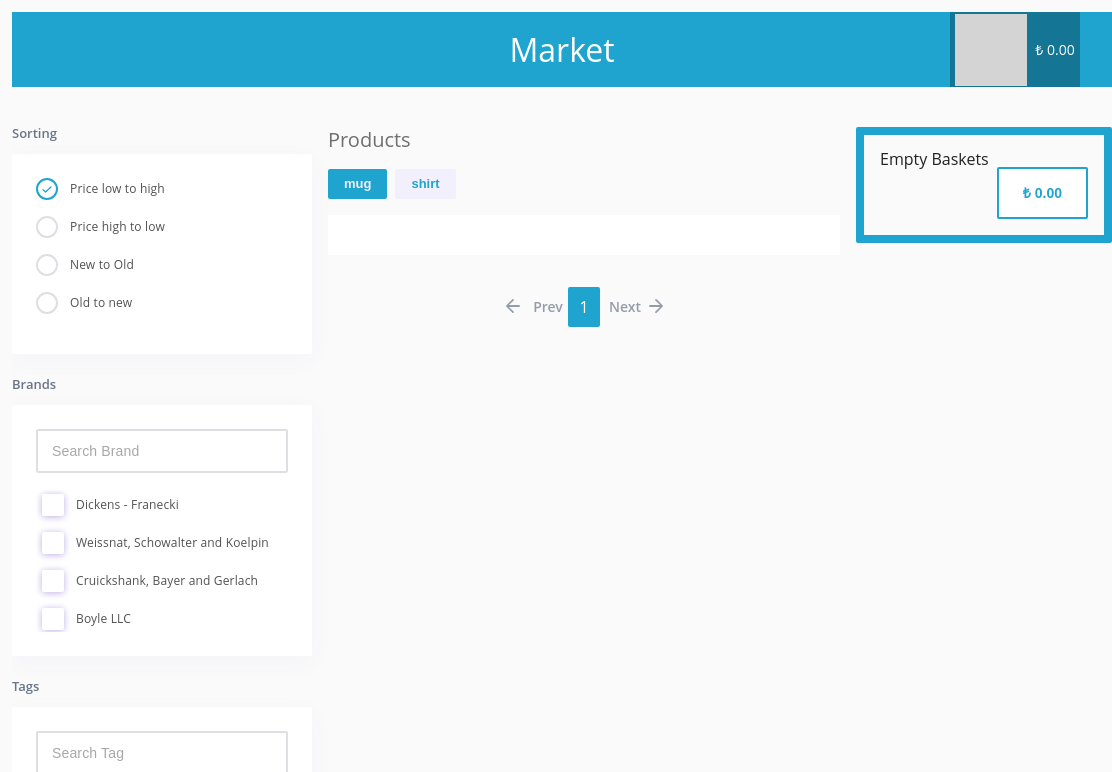
Test: Filter inputs › fill brand input
Type "Low" into the field with test id "input-search-brand" at (162,451), box [38,431,286,471]
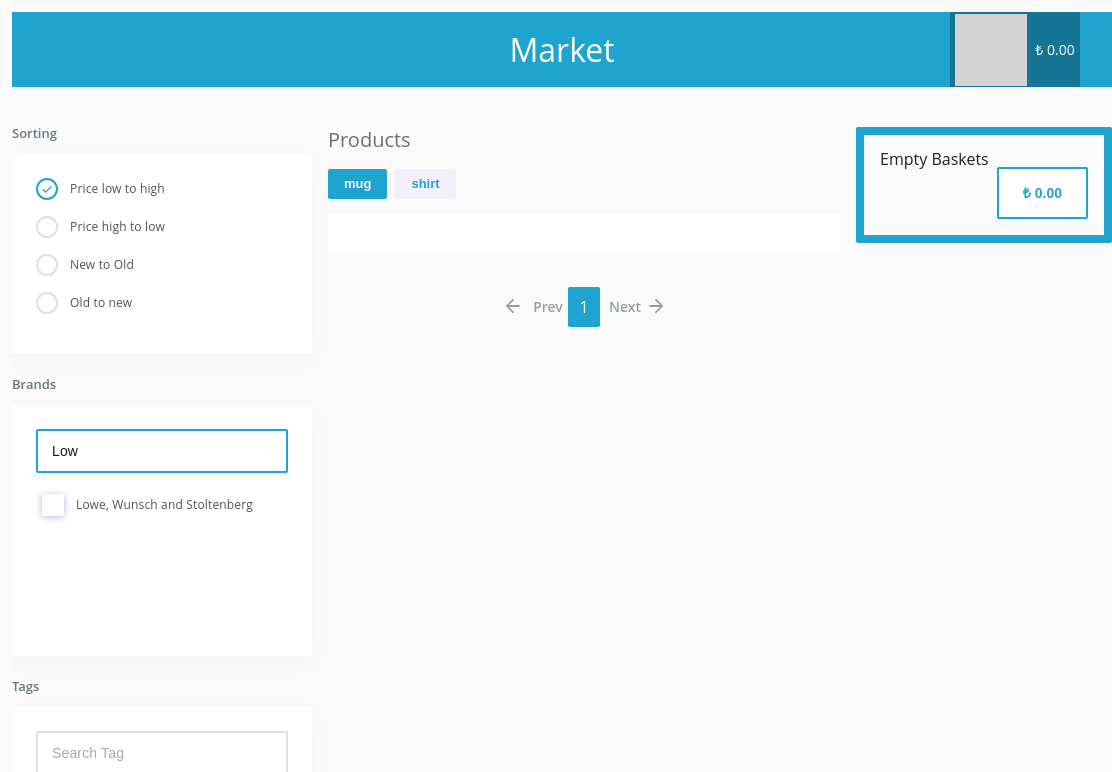
expect the checkbox "Lowe, Wunsch and Stoltenberg" is shown: met, box [40,494,284,516]
